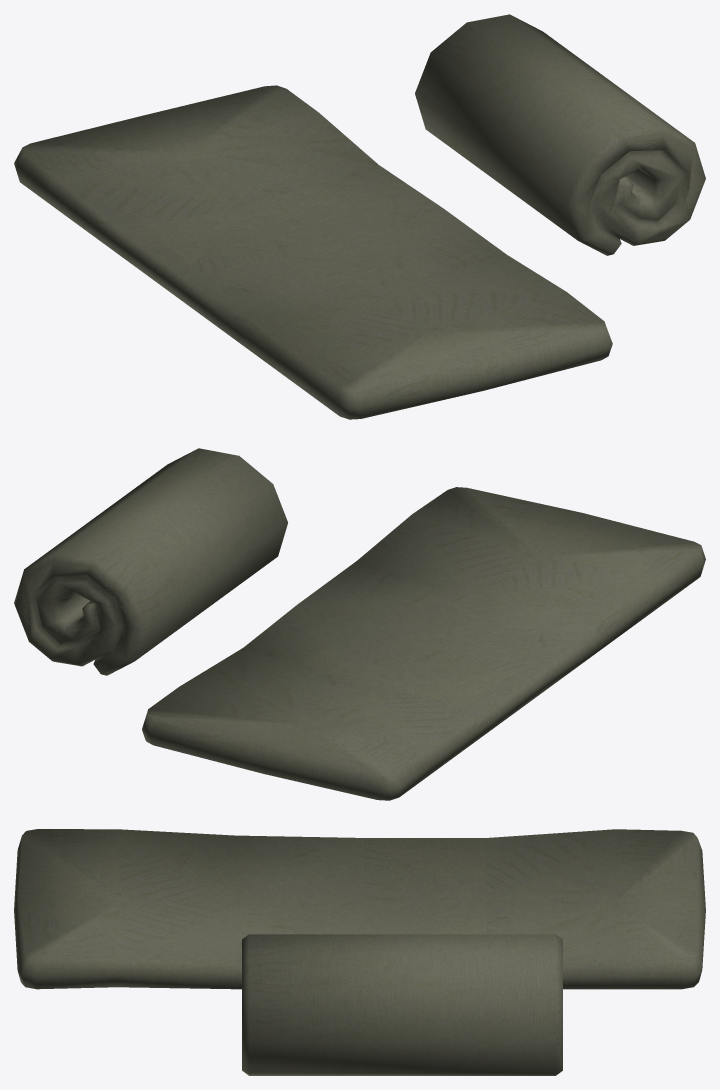
File: Matress.fbx
3 views of the same model, one above another, from view 1: azimuth 30°, elevation 25°; view 2: azimuth 150°, elevation 25°; view 3: azimuth 270°, elevation 25° (orthographic). The views are drawn at different scales.
Parts seen in each view (by area): view 1: Group1, Group2; view 2: Group1, Group2; view 3: Group1, Group2.
Part boxes in pixels (left/top/right/bottom): Group1: left=14, top=85, right=612, bottom=419; Group2: left=415, top=14, right=705, bottom=255; Group1: left=142, top=487, right=705, bottom=800; Group2: left=14, top=448, right=287, bottom=675; Group1: left=14, top=829, right=705, bottom=989; Group2: left=242, top=934, right=562, bottom=1075.
Bounding box in the file's own units: 1930 × 464 × 2419.
